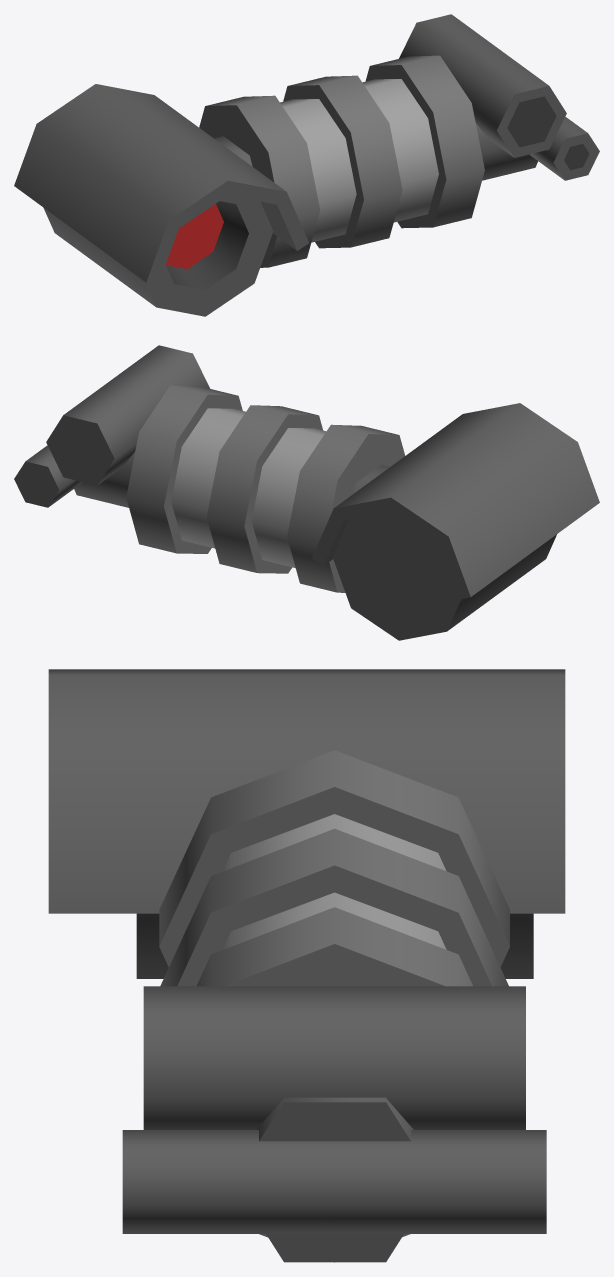
File: turret_002.fbx
The picture shows the model from 3 angles, top to bottom: view 1: azimuth 30°, elevation 25°; view 2: azimuth 150°, elevation 25°; view 3: azimuth 270°, elevation 25°; orthographic projection. The views are drawn at different scales.
Visible parts, largest first — view 1: turret_002; view 2: turret_002; view 3: turret_002.
Boxes of the visible parts, left/top/right/bottom form: turret_002: left=14, top=14, right=599, bottom=316; turret_002: left=14, top=345, right=599, bottom=640; turret_002: left=48, top=669, right=565, bottom=1262.
Bounding box in the file's own units: 149 × 72.33 × 49.24.
